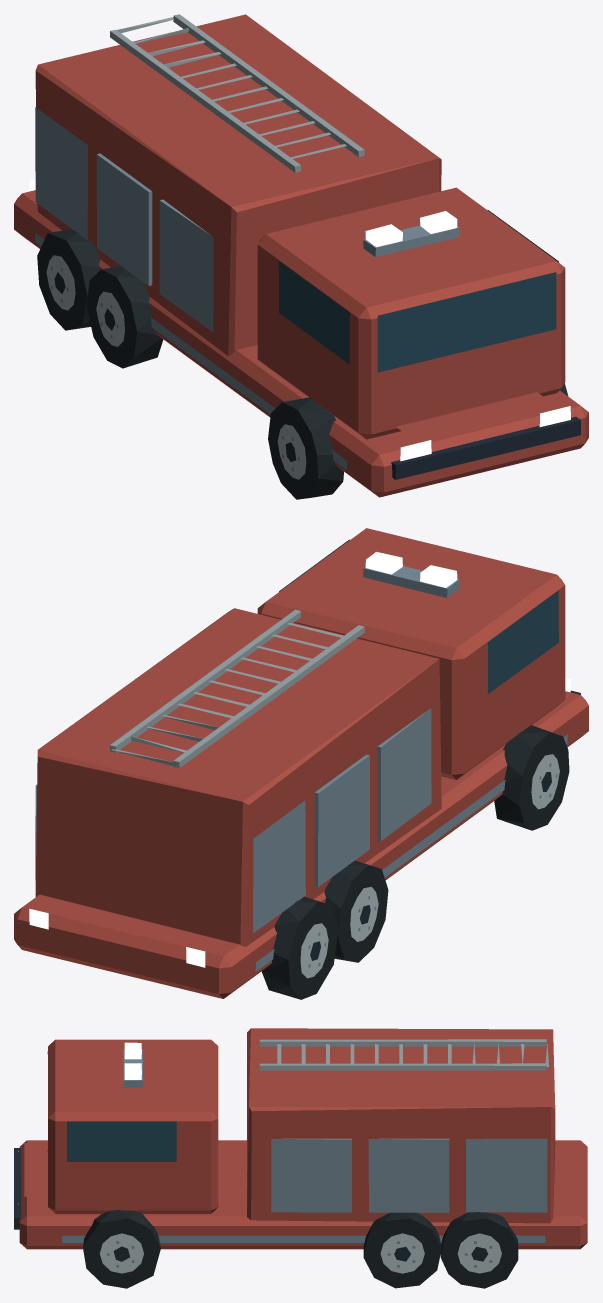
File: road-fire-engine.lod2.glb
3 renders of one model, top to bottom at view 1: azimuth 30°, elevation 25°; view 2: azimuth 150°, elevation 25°; view 3: azimuth 270°, elevation 25°, orthographic. The views are drawn at different scales.
Visible parts, largest first — view 1: road-fire-engine__body, road-fire-engine__wheel_steer_0_l, road-fire-engine__wheel_steer_2_l, road-fire-engine__wheel_steer_1_l; view 2: road-fire-engine__body, road-fire-engine__wheel_steer_0_l, road-fire-engine__wheel_steer_1_l, road-fire-engine__wheel_steer_2_l; view 3: road-fire-engine__body, road-fire-engine__wheel_steer_0_r, road-fire-engine__wheel_steer_2_r, road-fire-engine__wheel_steer_1_r.
Boxes of the visible parts, x1=… form: road-fire-engine__body: x1=14, y1=14, x2=588, y2=497; road-fire-engine__wheel_steer_0_l: x1=268, y1=397, x2=343, y2=499; road-fire-engine__wheel_steer_2_l: x1=86, y1=266, x2=163, y2=368; road-fire-engine__wheel_steer_1_l: x1=37, y1=229, x2=100, y2=330; road-fire-engine__body: x1=14, y1=528, x2=588, y2=998; road-fire-engine__wheel_steer_0_l: x1=494, y1=725, x2=569, y2=830; road-fire-engine__wheel_steer_1_l: x1=261, y1=896, x2=338, y2=999; road-fire-engine__wheel_steer_2_l: x1=324, y1=860, x2=388, y2=962; road-fire-engine__body: x1=14, y1=1028, x2=588, y2=1249; road-fire-engine__wheel_steer_0_r: x1=83, y1=1210, x2=160, y2=1288; road-fire-engine__wheel_steer_2_r: x1=363, y1=1212, x2=441, y2=1288; road-fire-engine__wheel_steer_1_r: x1=440, y1=1212, x2=518, y2=1288.
Size of the model in its own units: 2.84 by 2.56 by 7.09.
